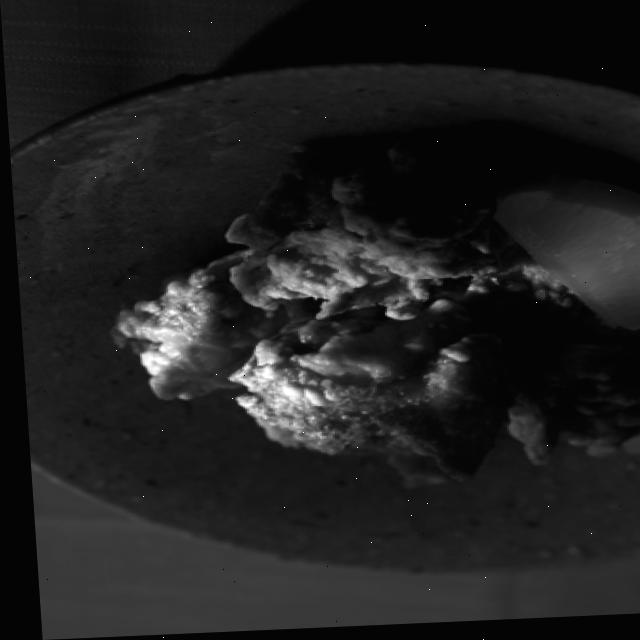鸡肉料理 含炸鸡: (7, 113, 640, 538)
